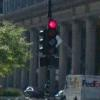Traffic light: (36, 13, 63, 73)
